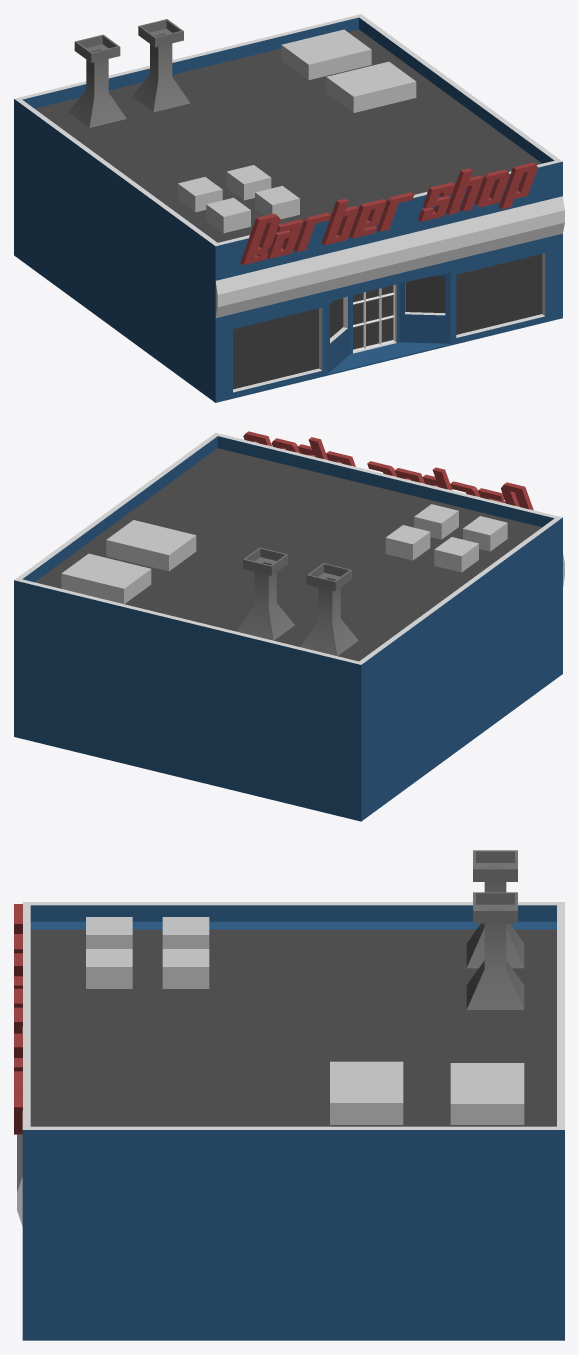
Rendered from 13 Barber_Shop.fbx.
The picture shows the model from 3 angles, top to bottom: view 1: azimuth 30°, elevation 25°; view 2: azimuth 150°, elevation 25°; view 3: azimuth 270°, elevation 25°; orthographic projection. The views are drawn at different scales.
Parts seen in each view (by area): view 1: Barber_Shop; view 2: Barber_Shop; view 3: Barber_Shop.
Part boxes in pixels (bbox=[...]): Barber_Shop: bbox=[14, 14, 564, 402]; Barber_Shop: bbox=[14, 431, 564, 821]; Barber_Shop: bbox=[14, 850, 564, 1340].
Size of the model in its own units: 173 by 103 by 176.
